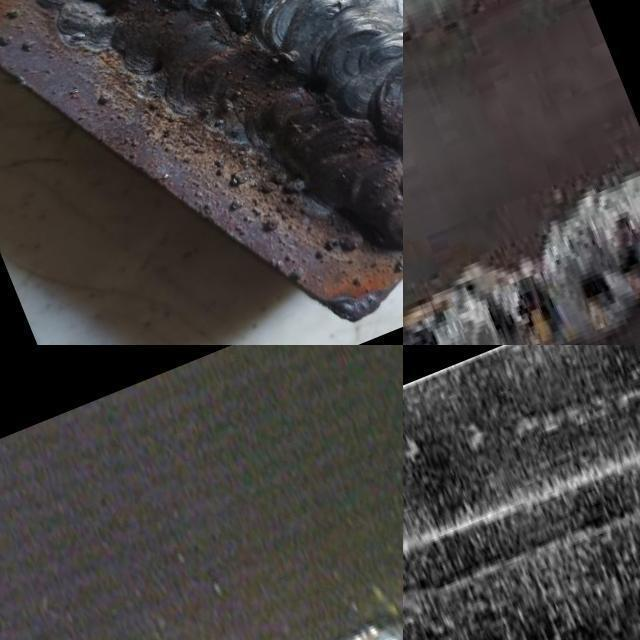defect: (484, 269, 555, 344), (609, 204, 640, 282), (580, 260, 616, 313), (412, 321, 443, 345), (303, 74, 334, 97), (458, 272, 479, 296)
